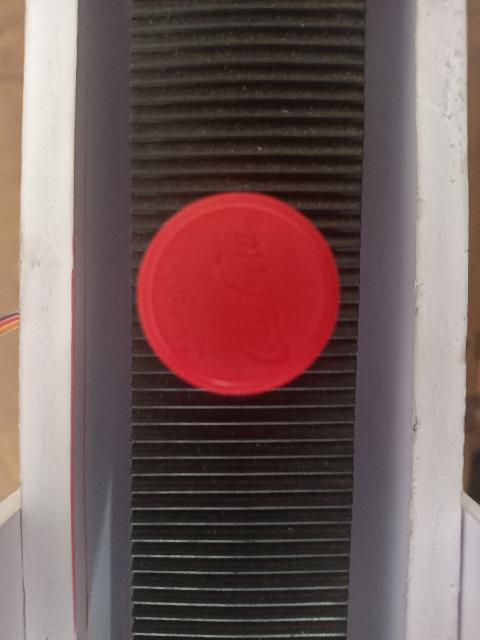bottlecap: (137, 185, 340, 399)
